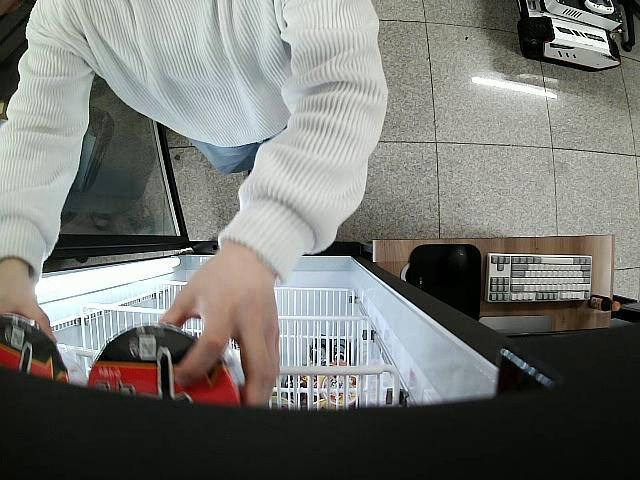01_ShinRamen_L: (90, 324, 241, 405), (0, 316, 86, 390)
